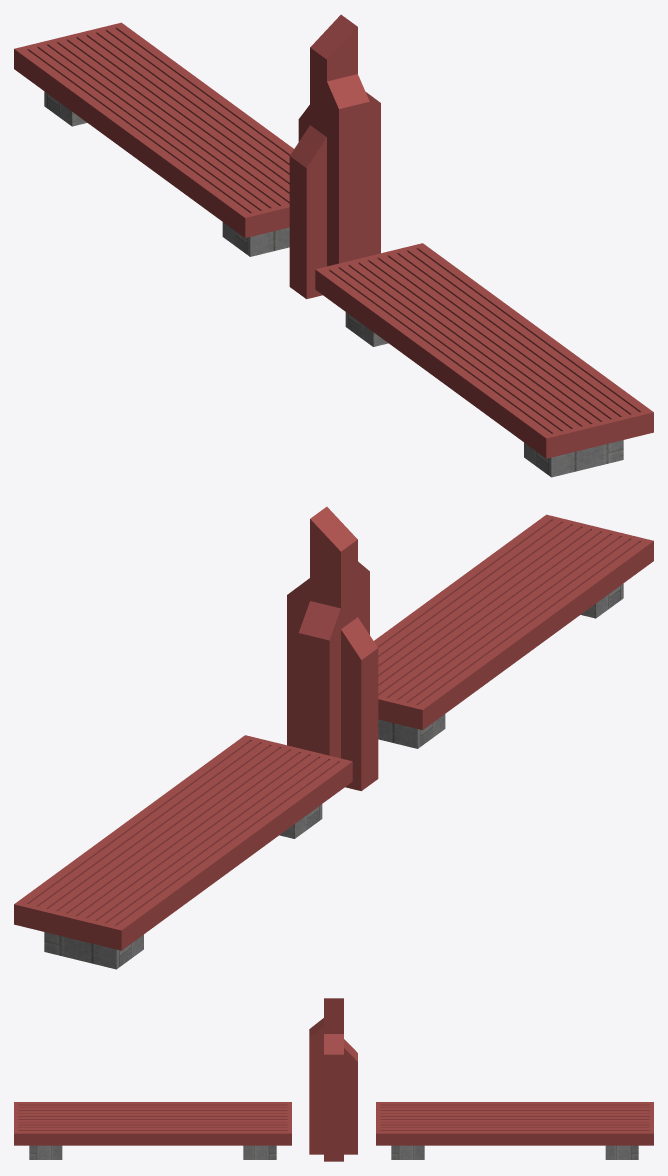
The model's file is bench.glb.
3 renders of one model, top to bottom at view 1: azimuth 30°, elevation 25°; view 2: azimuth 150°, elevation 25°; view 3: azimuth 270°, elevation 25°, orthographic. The views are drawn at different scales.
Visible parts, largest first — view 1: 立方体.006, 立方体.005, 立方体.007; view 2: 立方体.006, 立方体.005, 立方体.007; view 3: 立方体.006, 立方体.005, 立方体.007.
Part boxes in pixels (box(x1,y1,x2,y2)): 立方体.006: box(14, 22, 653, 458); 立方体.005: box(289, 14, 380, 299); 立方体.007: box(44, 91, 623, 477); 立方体.006: box(14, 514, 653, 950); 立方体.005: box(287, 506, 378, 791); 立方体.007: box(44, 583, 623, 969); 立方体.006: box(14, 1102, 653, 1145); 立方体.005: box(309, 998, 357, 1161); 立方体.007: box(29, 1145, 638, 1159).
Bounding box in the file's own units: 1.81 × 4.18 × 15.53.
2 materials, 1 textured.
